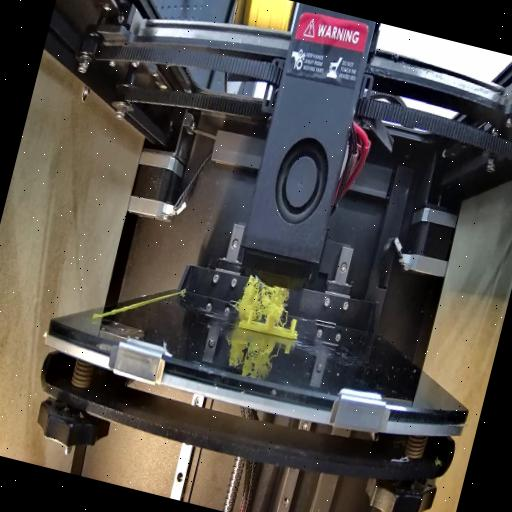spaghetti: (234, 272, 297, 328)
